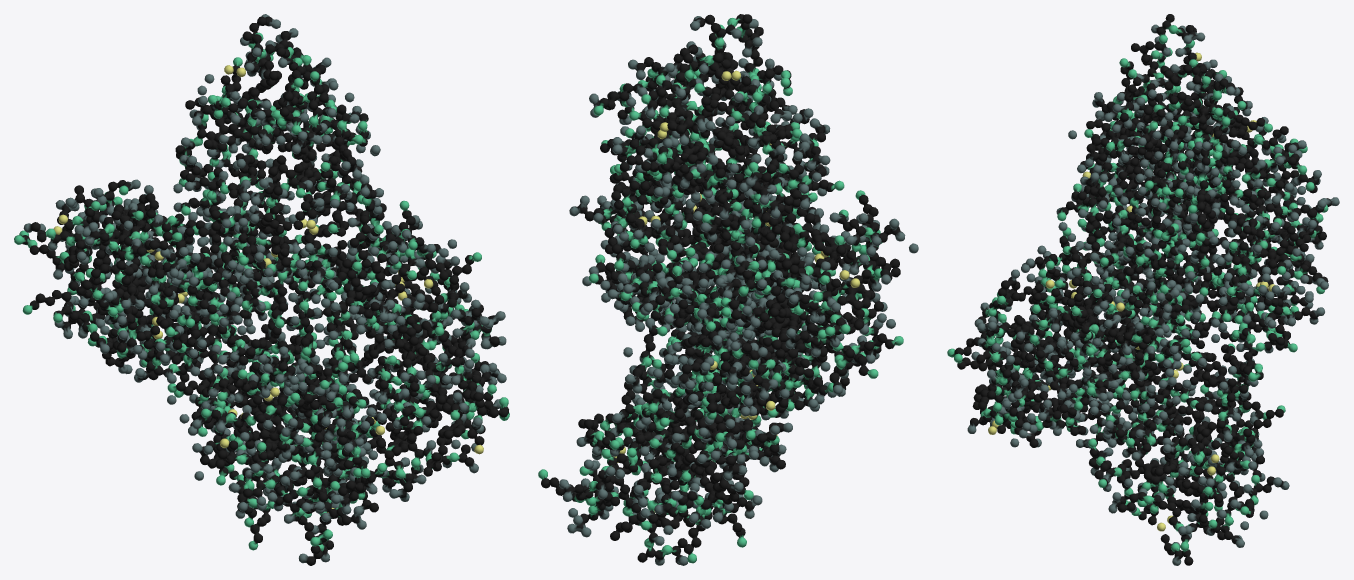
The model's file is atoms.medium.glb.
3 renders of one model, left to right at view 1: azimuth 30°, elevation 25°; view 2: azimuth 150°, elevation 25°; view 3: azimuth 270°, elevation 25°, orthographic. The views are drawn at different scales.
Parts seen in each view (by area): view 1: geo1.004; view 2: geo1.004; view 3: geo1.004.
Boxes of the visible parts, x1,y1,x2,y2 form: geo1.004: (14,14,509,565); geo1.004: (538,14,918,565); geo1.004: (947,14,1339,565).
Bounding box in the file's own units: 65.83 × 91.36 × 63.07.
